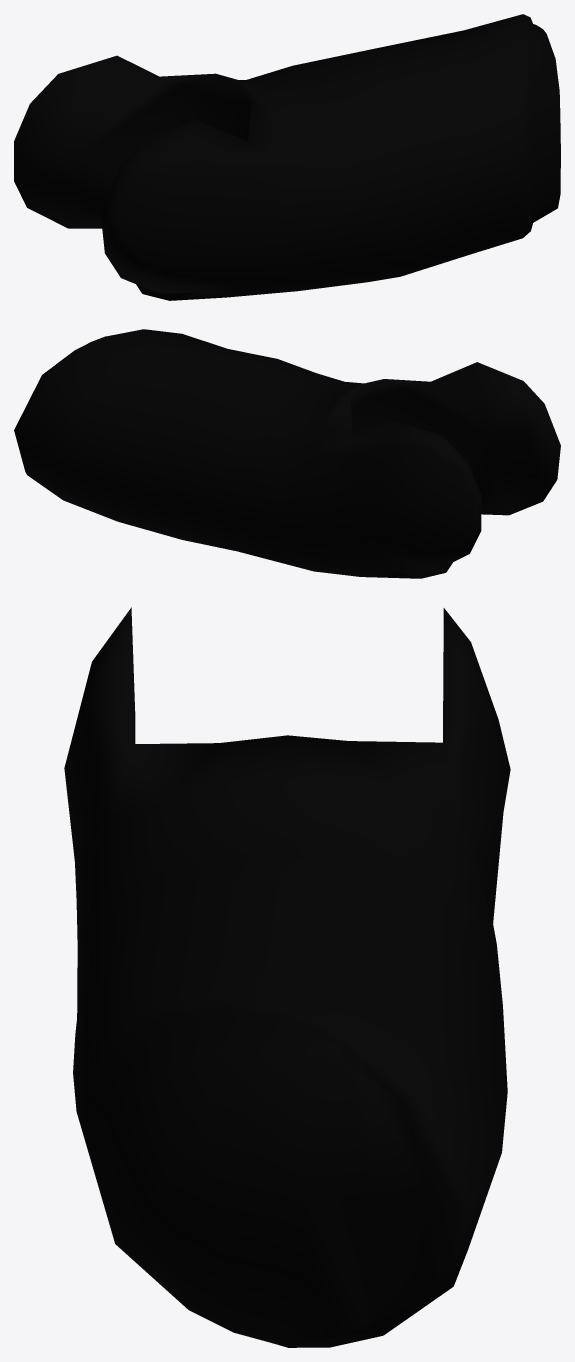
Rendered from RShoulderRoll.obj.
The picture shows the model from 3 angles, top to bottom: view 1: azimuth 30°, elevation 25°; view 2: azimuth 150°, elevation 25°; view 3: azimuth 270°, elevation 25°; orthographic projection. The views are drawn at different scales.
Size of the model in its own units: 2.04 by 0.8583 by 0.8511.
